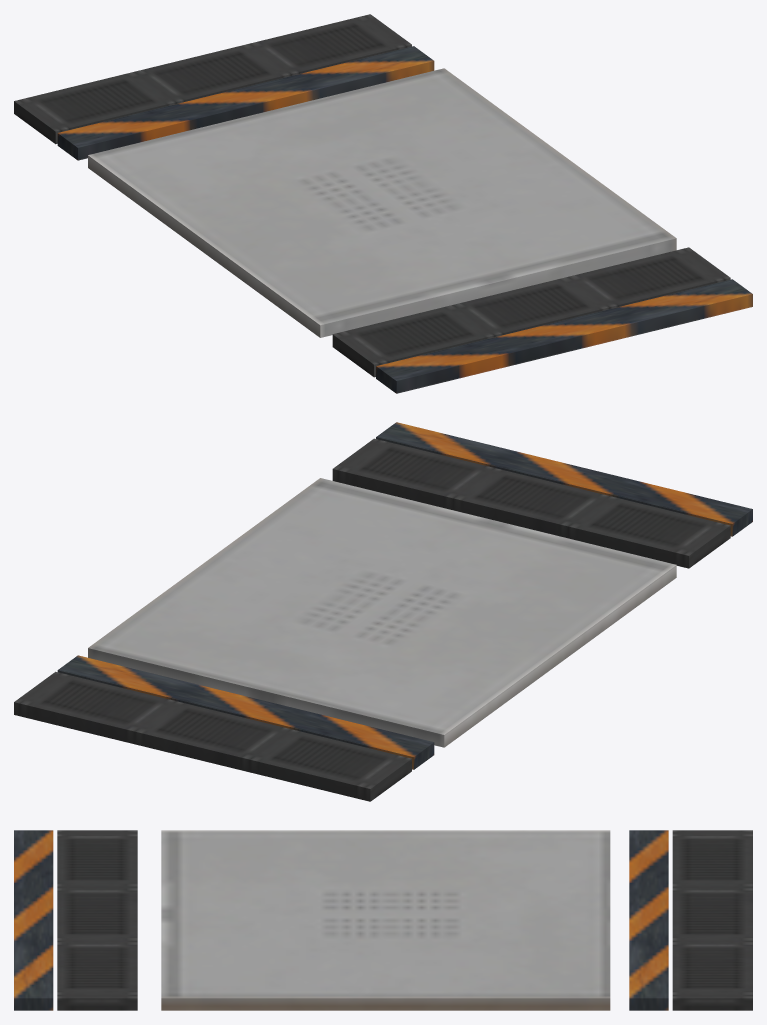
Rendered from Colony_Bridge_Fragment_Art.glb.
3 renders of one model, top to bottom at view 1: azimuth 30°, elevation 25°; view 2: azimuth 150°, elevation 25°; view 3: azimuth 270°, elevation 25°, orthographic. The views are drawn at different scales.
Visible parts, largest first — view 1: Colony_Bridge_Fragment_Art; view 2: Colony_Bridge_Fragment_Art; view 3: Colony_Bridge_Fragment_Art.
Boxes of the visible parts, bbox=[...] form: Colony_Bridge_Fragment_Art: bbox=[14, 14, 752, 393]; Colony_Bridge_Fragment_Art: bbox=[14, 422, 752, 801]; Colony_Bridge_Fragment_Art: bbox=[14, 830, 752, 1010].
Bounding box in the file's own units: 2.77 × 0.0944 × 5.14.
1 material, 1 textured.
